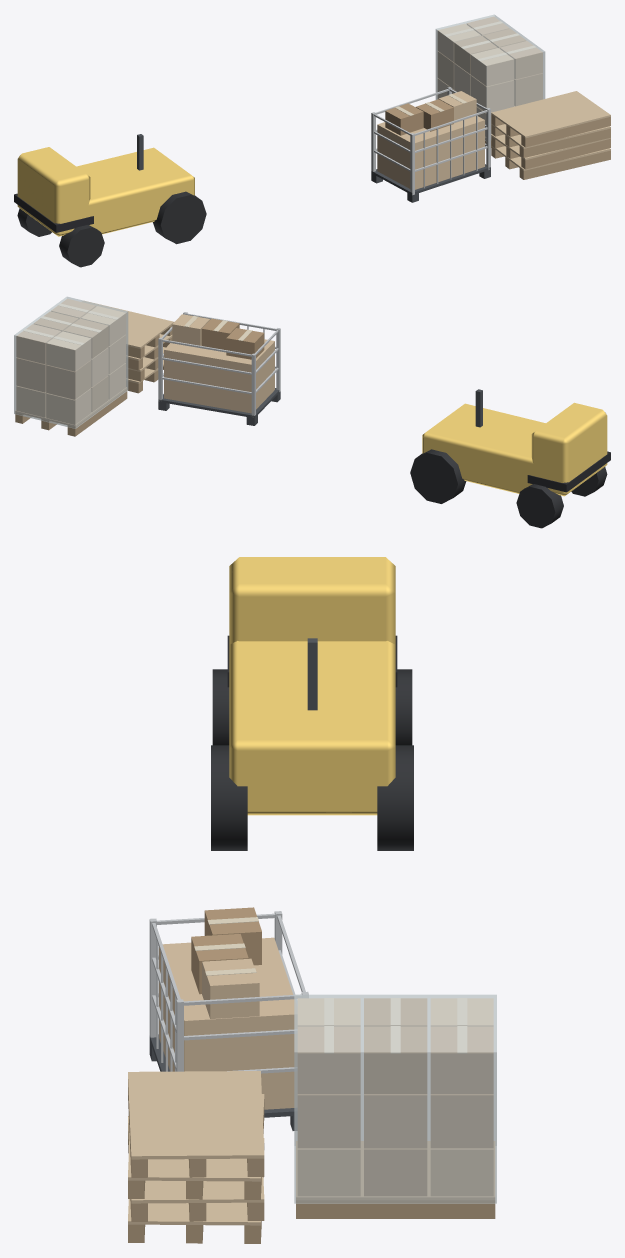
Rendered from einrichtung_ladehof_buehne.glb.
3 views of the same model, one above another, from view 1: azimuth 30°, elevation 25°; view 2: azimuth 150°, elevation 25°; view 3: azimuth 270°, elevation 25° (orthographic). The views are drawn at different scales.
Parts seen in each view (by area): view 1: einrichtung_ladehof_buehne; view 2: einrichtung_ladehof_buehne; view 3: einrichtung_ladehof_buehne.
Boxes of the visible parts, x1,y1,x2,y2 form: einrichtung_ladehof_buehne: (14,14,610,267); einrichtung_ladehof_buehne: (14,296,610,528); einrichtung_ladehof_buehne: (128,557,496,1243).
Size of the model in its own units: 7.37 by 1.25 by 2.22.
